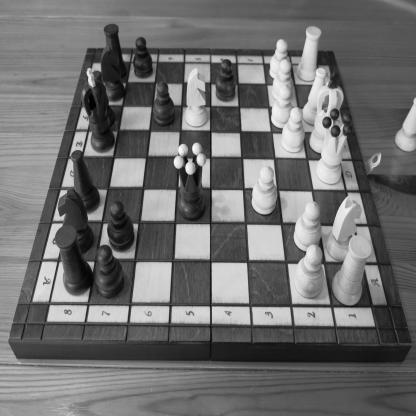black-bishop: (70, 150, 100, 214), (92, 70, 115, 127)
black-king: (81, 68, 115, 154)
black-knight: (58, 188, 94, 254), (100, 44, 126, 102)
black-pawn: (94, 244, 124, 299), (107, 200, 135, 253), (154, 81, 176, 127), (215, 58, 237, 102), (133, 37, 153, 79)
black-queen: (173, 141, 207, 221)
black-rook: (54, 225, 94, 296), (104, 23, 128, 80)
white-bishop: (302, 68, 326, 126), (394, 97, 415, 154)
white-king: (309, 70, 344, 154)
white-knight: (326, 194, 362, 262), (184, 67, 208, 128)
white-pawn: (294, 244, 324, 299), (293, 201, 322, 253), (251, 166, 278, 216), (281, 107, 305, 153), (271, 84, 293, 128), (272, 59, 294, 101), (270, 39, 288, 78)
white-queen: (316, 108, 352, 185)
white-rook: (331, 234, 372, 307), (296, 25, 321, 82)
